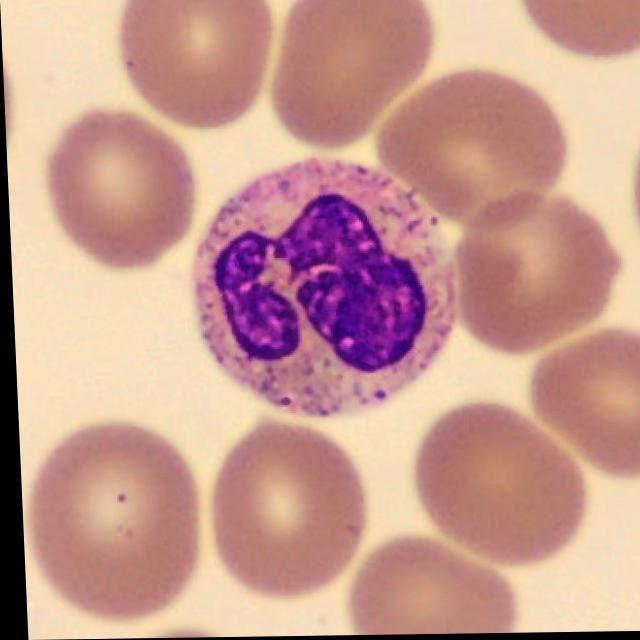Neutrofilo segmentado: (196, 157, 454, 417)
